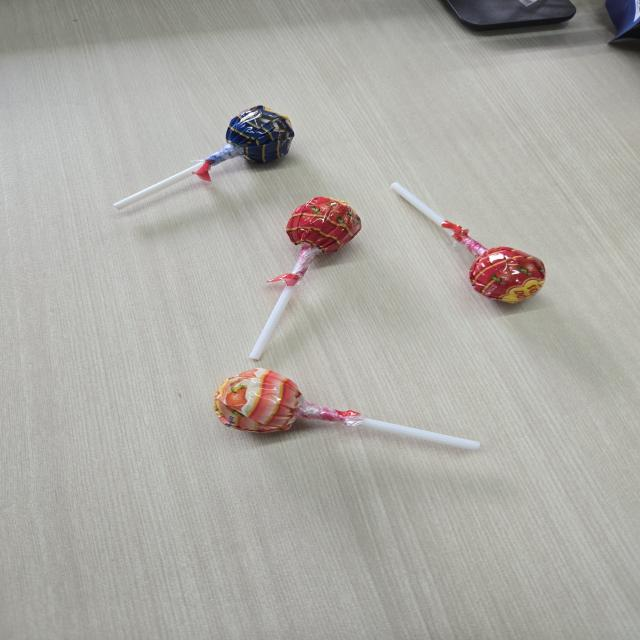lollipop: (209, 363, 493, 462), (378, 176, 552, 316), (100, 103, 304, 218), (247, 192, 365, 362)
